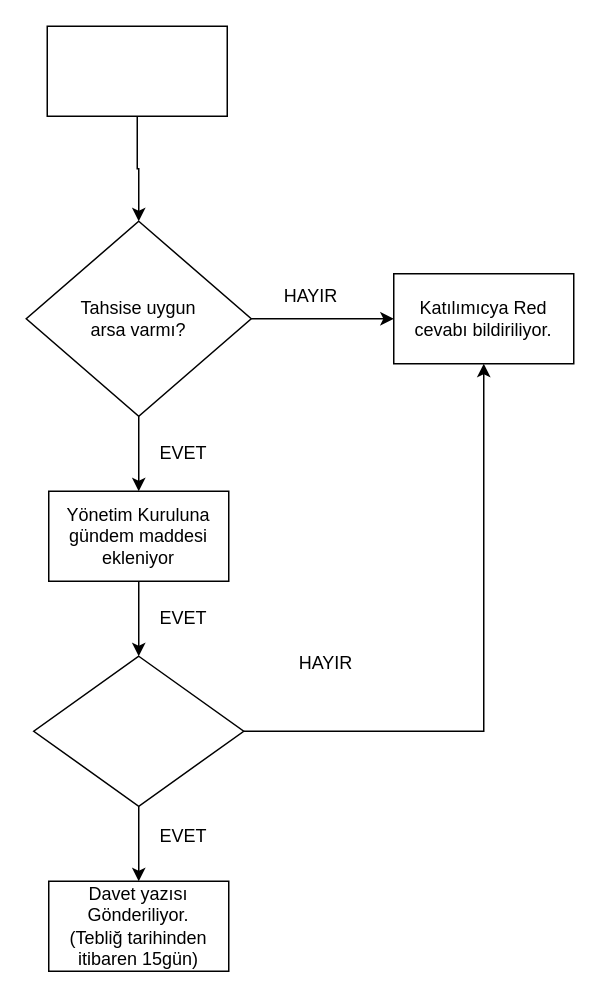
The diagram is 600 pixels wide and 998 high, and some of its shapes have lost their labels. The shapes that lost their labels are listed below. From the top down, each one's centre as x and y in pixels, then its label:
point (136, 70): Katılımcı Dilekçe İle başvuru
point (138, 730): Yönetim Ugun Gördümü?
